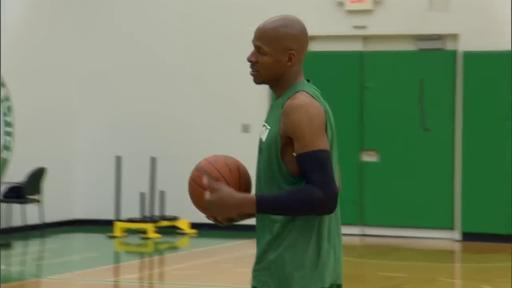ball: (188, 153, 252, 214)
human: (203, 15, 343, 288)
